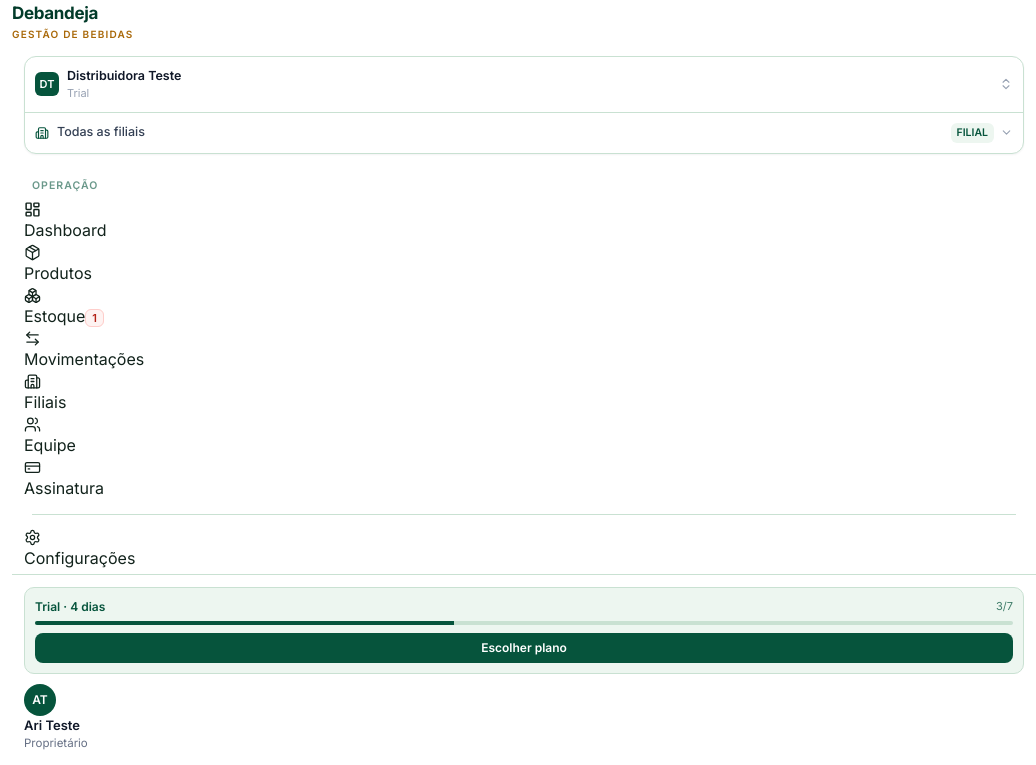
menu do usuário › abre o mesmo menu pelo usuário no rodapé da sidebar
(page scrolled)
Expected: the text "Proprietário" is shown, x1=24 y1=735 x2=88 y2=753
Click the button with aria-label "Menu do usuário Ari Teste" at (56, 718), box x1=24 y1=684 x2=88 y2=753
(page scrolled)
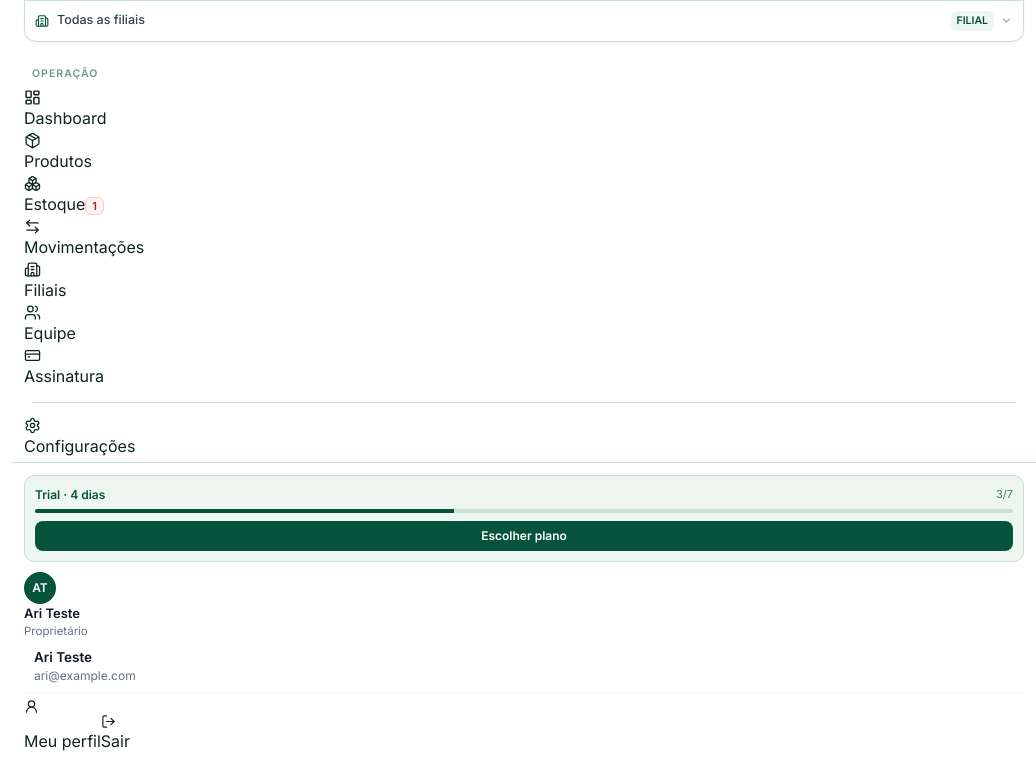
Now the menu item "Meu perfil" is shown, box x1=24 y1=698 x2=101 y2=750
Now the menu item "Sair" is shown, box x1=101 y1=714 x2=130 y2=752
